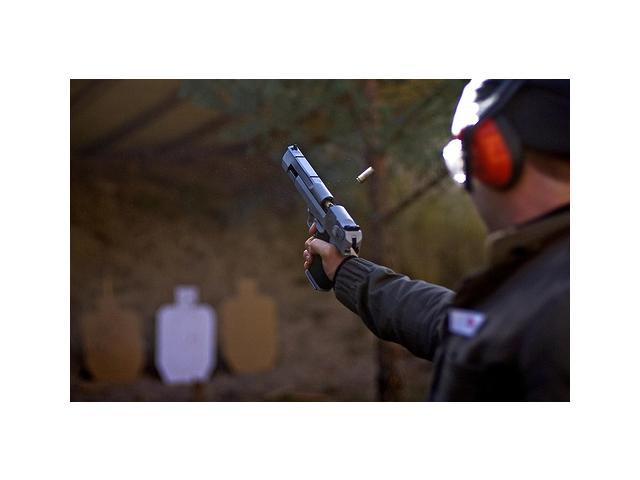pistol: (278, 140, 362, 295)
